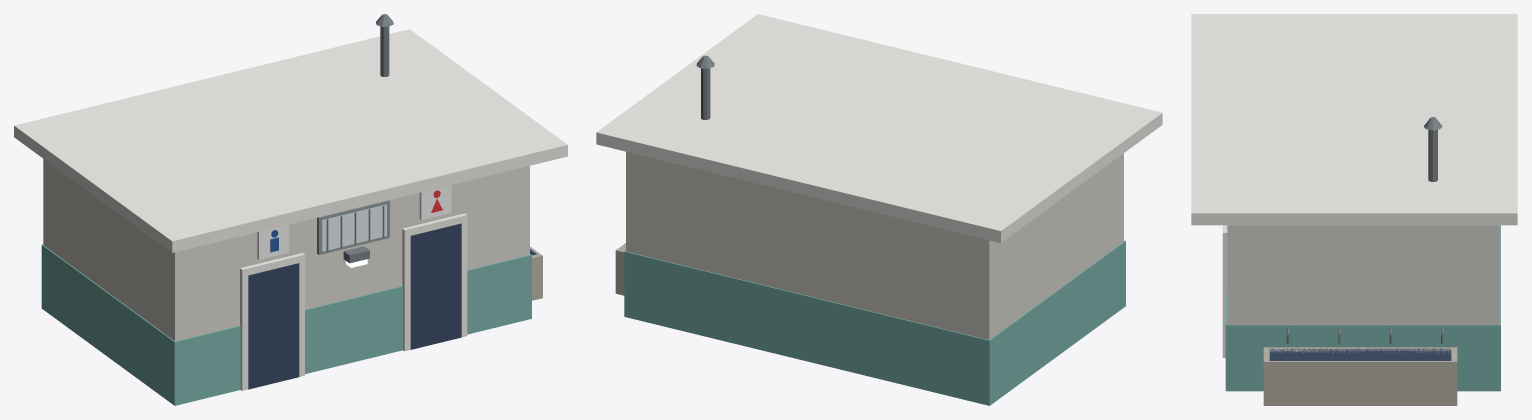
File: ToiletBlock.fbx
3 views of the same model, side by side, from view 1: azimuth 30°, elevation 25°; view 2: azimuth 150°, elevation 25°; view 3: azimuth 270°, elevation 25° (orthographic). The views are drawn at different scales.
Visible parts, largest first — view 1: ToiletBlock; view 2: ToiletBlock; view 3: ToiletBlock.
Boxes of the visible parts, bbox=[...] form: ToiletBlock: bbox=[14, 14, 567, 405]; ToiletBlock: bbox=[596, 14, 1162, 405]; ToiletBlock: bbox=[1191, 14, 1517, 405].
Bounding box in the file's own units: 8 × 4.55 × 5.4.
